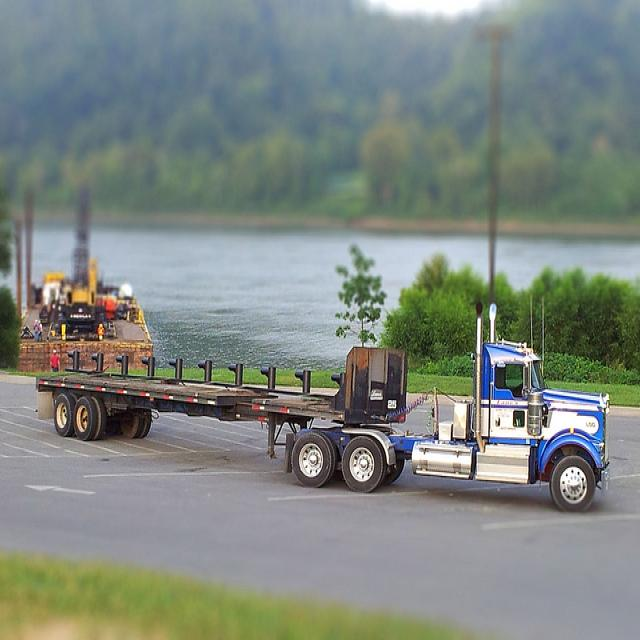Vehicle: (33, 297, 611, 514)
